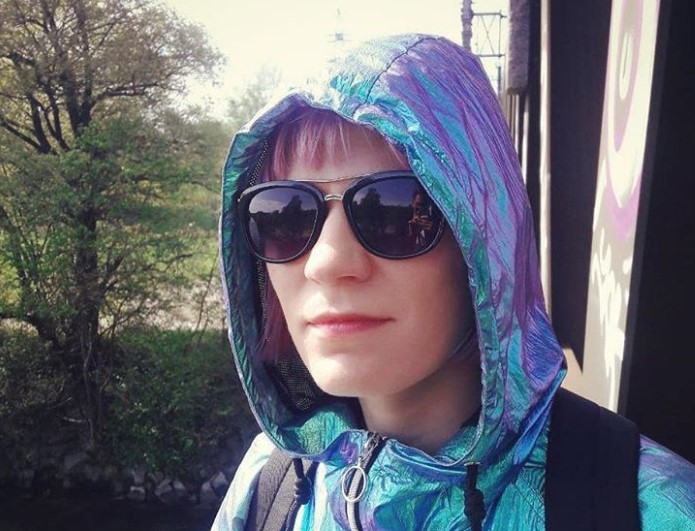face_no_mask: (244, 78, 494, 418)
